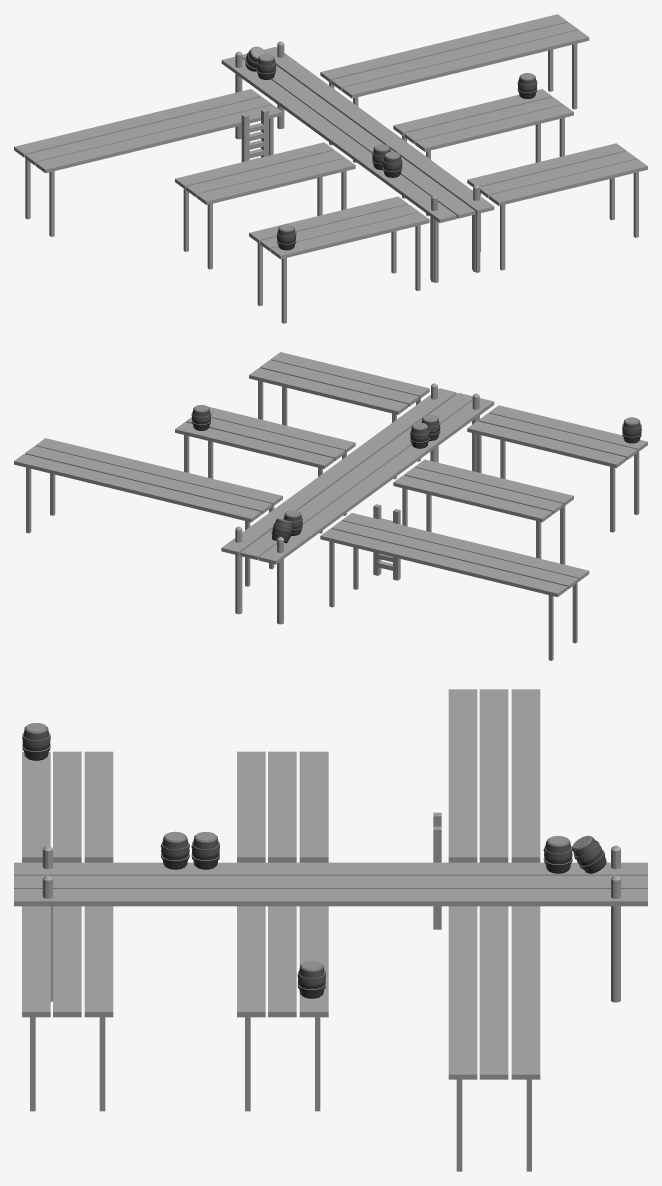
File: doc-scene.fbx
The picture shows the model from 3 angles, top to bottom: view 1: azimuth 30°, elevation 25°; view 2: azimuth 150°, elevation 25°; view 3: azimuth 270°, elevation 25°; orthographic projection. The views are drawn at different scales.
Visible parts, largest first — view 1: polySurface241, polySurface275, polySurface274, polySurface215, polySurface236, polySurface276, polySurface219, polySurface243, polySurface258, polySurface260, polySurface257, polySurface256; view 2: polySurface241, polySurface275, polySurface274, polySurface276, polySurface215, polySurface236, polySurface219, polySurface243, polySurface263, polySurface264, polySurface259, polySurface257 (+1 smaller); view 3: polySurface241, polySurface274, polySurface275, polySurface236, polySurface219, polySurface215, polySurface276, polySurface263, polySurface258, polySurface260, polySurface257, polySurface261 (+2 smaller).
Boxes of the visible parts, x1=… form: polySurface241: x1=221, y1=46, x2=494, y2=222; polySurface275: x1=14, y1=89, x2=282, y2=236; polySurface274: x1=320, y1=14, x2=589, y2=162; polySurface215: x1=175, y1=142, x2=355, y2=269; polySurface236: x1=467, y1=143, x2=647, y2=270; polySurface276: x1=249, y1=196, x2=429, y2=323; polySurface219: x1=393, y1=89, x2=573, y2=216; polySurface243: x1=241, y1=109, x2=268, y2=162; polySurface258: x1=382, y1=152, x2=402, y2=177; polySurface260: x1=256, y1=54, x2=276, y2=79; polySurface257: x1=277, y1=224, x2=296, y2=250; polySurface256: x1=517, y1=73, x2=537, y2=98; polySurface241: x1=221, y1=388, x2=494, y2=564; polySurface275: x1=320, y1=513, x2=589, y2=660; polySurface274: x1=14, y1=438, x2=282, y2=586; polySurface276: x1=467, y1=405, x2=647, y2=532; polySurface215: x1=393, y1=459, x2=573, y2=564; polySurface236: x1=249, y1=352, x2=429, y2=479; polySurface219: x1=175, y1=406, x2=355, y2=533; polySurface243: x1=373, y1=504, x2=400, y2=580; polySurface263: x1=235, y1=526, x2=242, y2=614; polySurface264: x1=277, y1=536, x2=283, y2=624; polySurface259: x1=410, y1=422, x2=429, y2=448; polySurface257: x1=622, y1=417, x2=641, y2=443; polySurface241: x1=14, y1=862, x2=647, y2=906; polySurface274: x1=448, y1=906, x2=540, y2=1171; polySurface275: x1=448, y1=689, x2=540, y2=862; polySurface236: x1=22, y1=906, x2=113, y2=1111; polySurface219: x1=237, y1=906, x2=328, y2=1111; polySurface215: x1=237, y1=751, x2=328, y2=862; polySurface276: x1=22, y1=751, x2=113, y2=862; polySurface263: x1=611, y1=875, x2=620, y2=1002; polySurface258: x1=160, y1=831, x2=189, y2=869; polySurface260: x1=543, y1=836, x2=572, y2=873; polySurface257: x1=22, y1=723, x2=50, y2=760; polySurface261: x1=572, y1=835, x2=606, y2=873.
Size of the model in its own units: 1899 by 319 by 1320.
